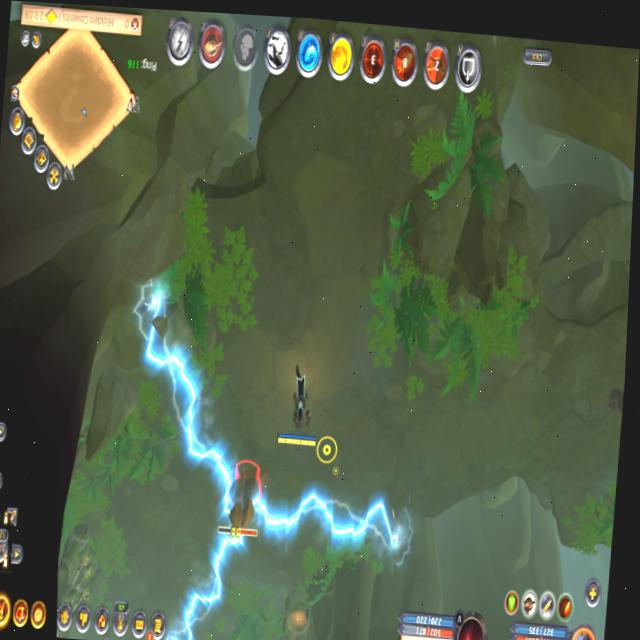ore: (213, 459, 270, 544)
red: (272, 359, 326, 460)
silver: (124, 272, 240, 530), (251, 481, 401, 562), (159, 524, 252, 640)
